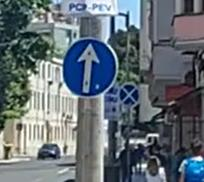sentido obrigatorio: (59, 33, 119, 100)
